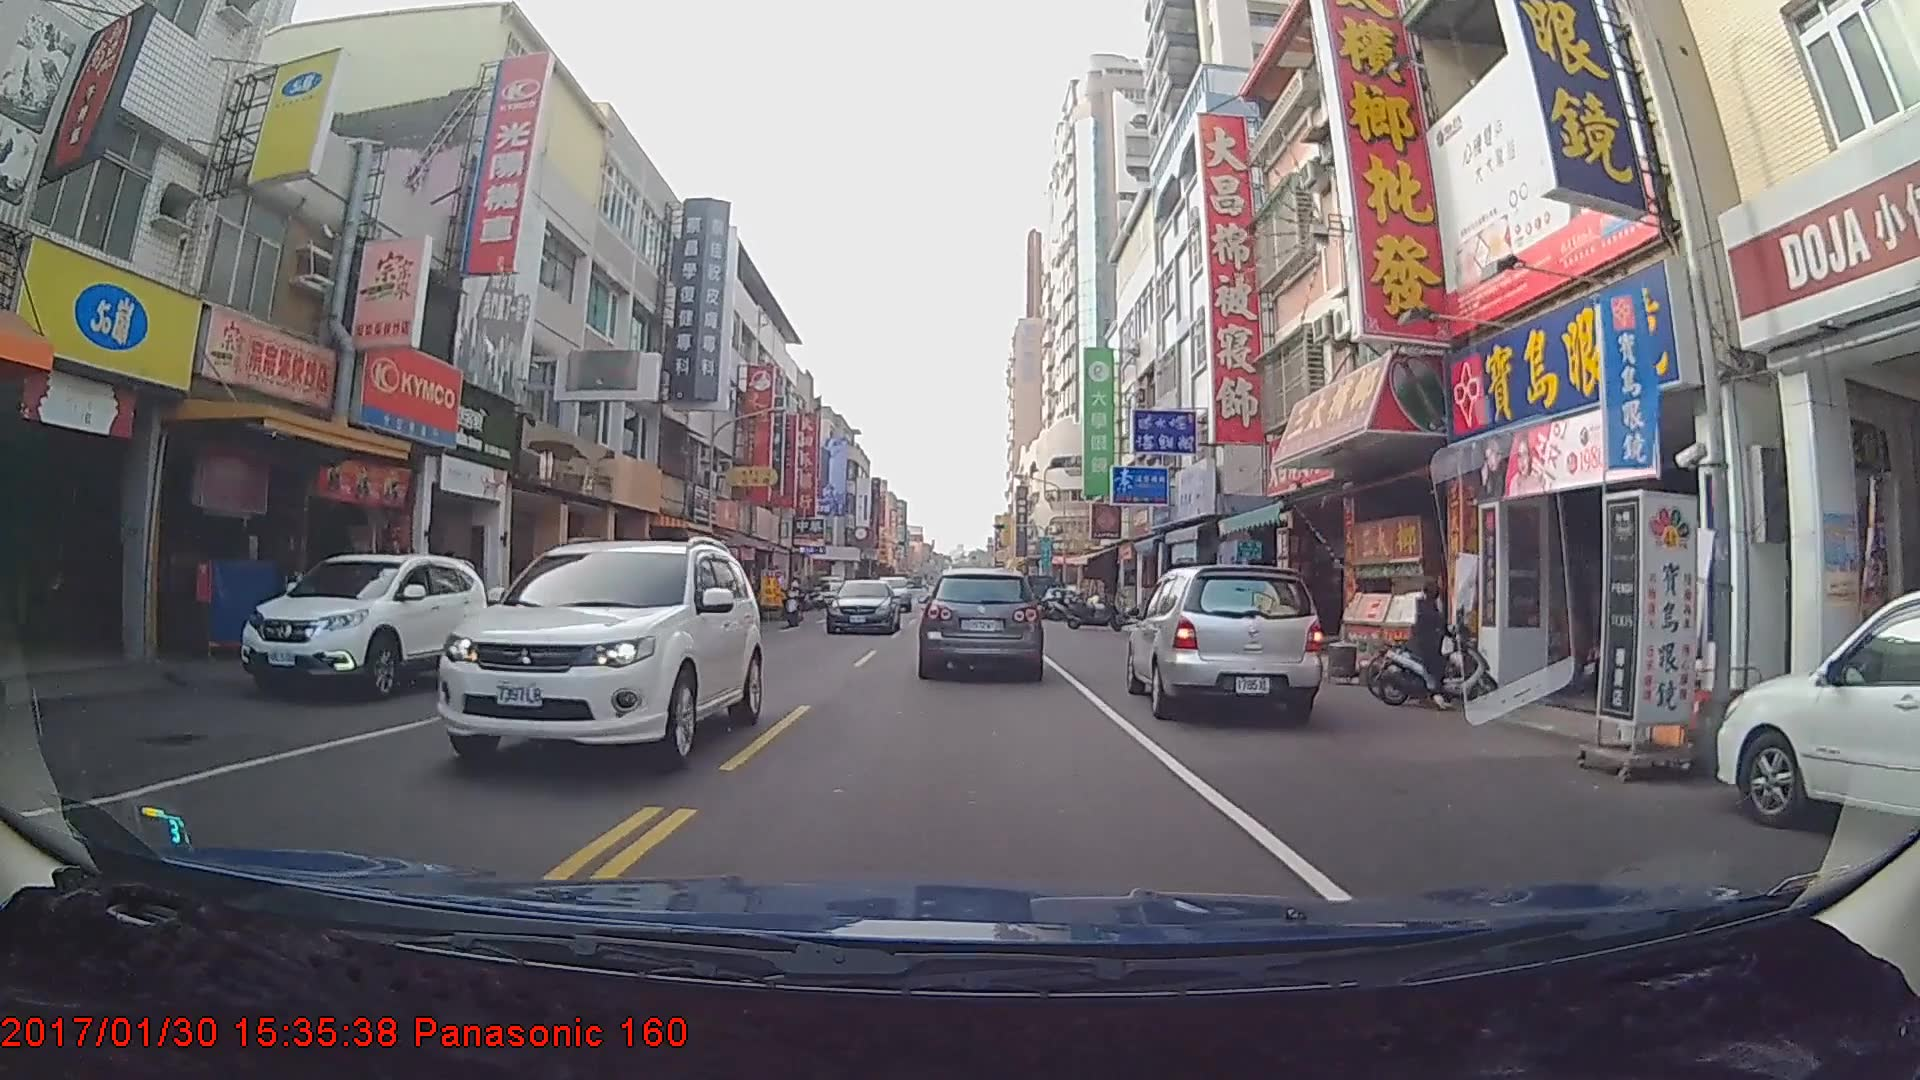rider: (1375, 574, 1510, 720), (777, 571, 809, 624)
vehicle: (436, 537, 764, 775), (1713, 572, 1920, 881), (239, 552, 483, 702), (1124, 563, 1324, 727), (921, 566, 1041, 678), (822, 576, 899, 635), (869, 573, 911, 611)
